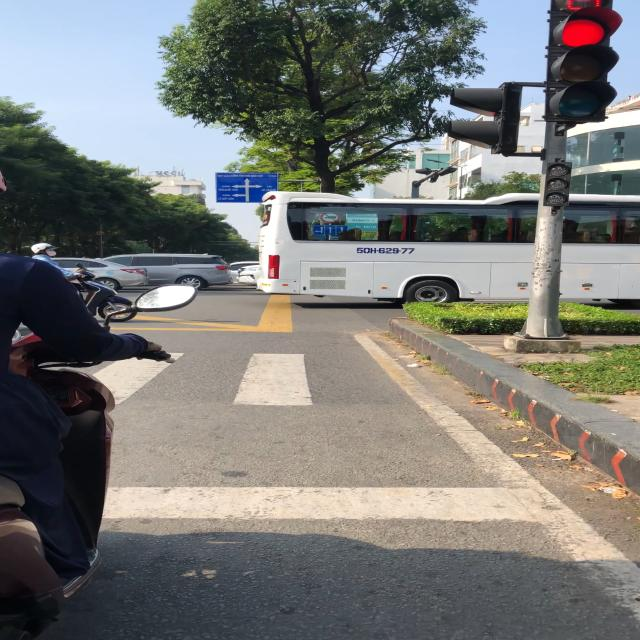Bien bao cam xe so-mi ro-mooc: (318, 212, 343, 224)
